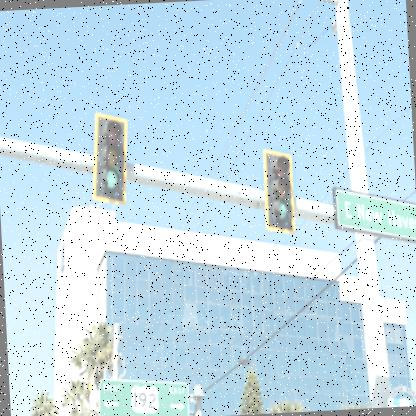trafficlight: (83, 106, 130, 204), (259, 146, 296, 235)
